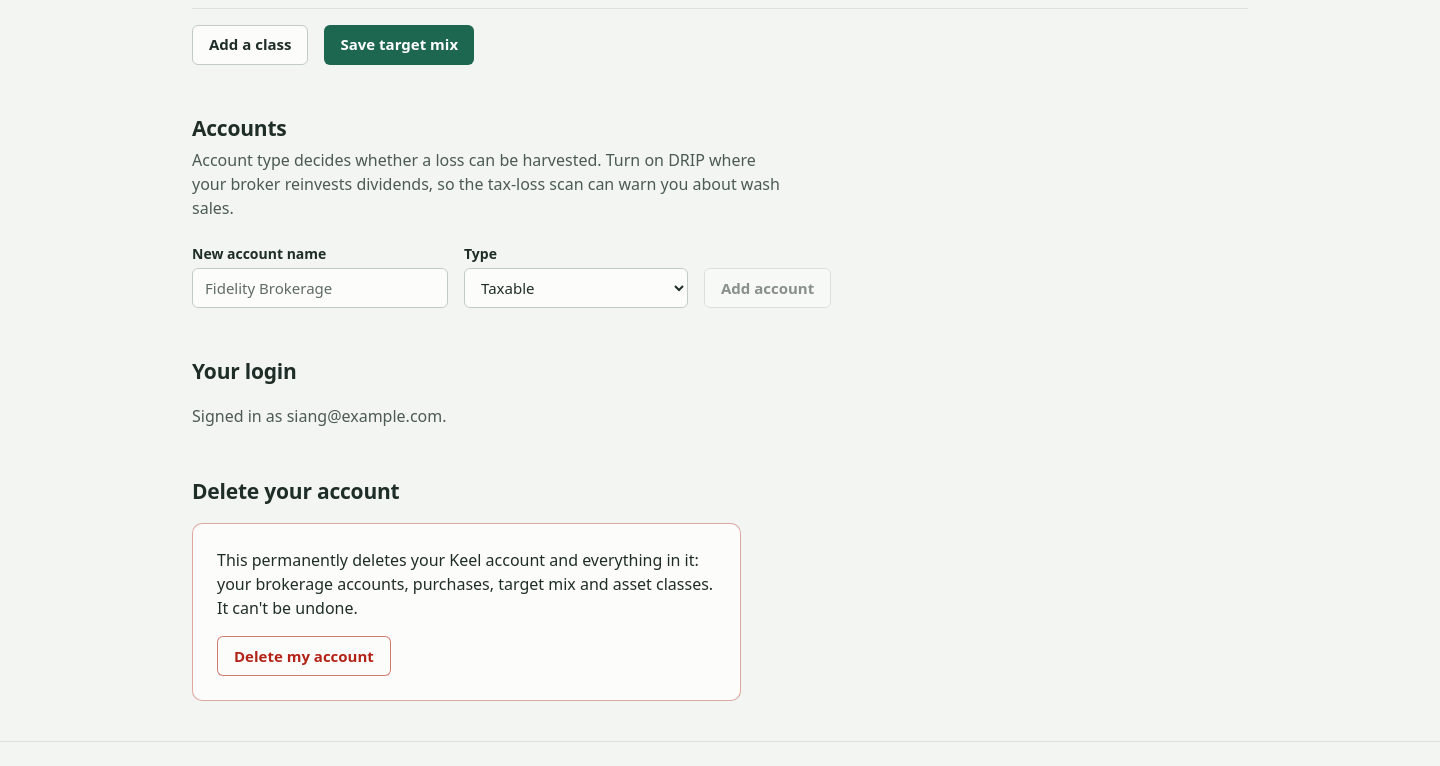
it: delete my account › asks for the password, keeps the account on a wrong one, and returns to the start page when done
(page scrolled)
Click the button "Delete my account" at (304, 656), box x1=217 y1=636 x2=391 y2=676
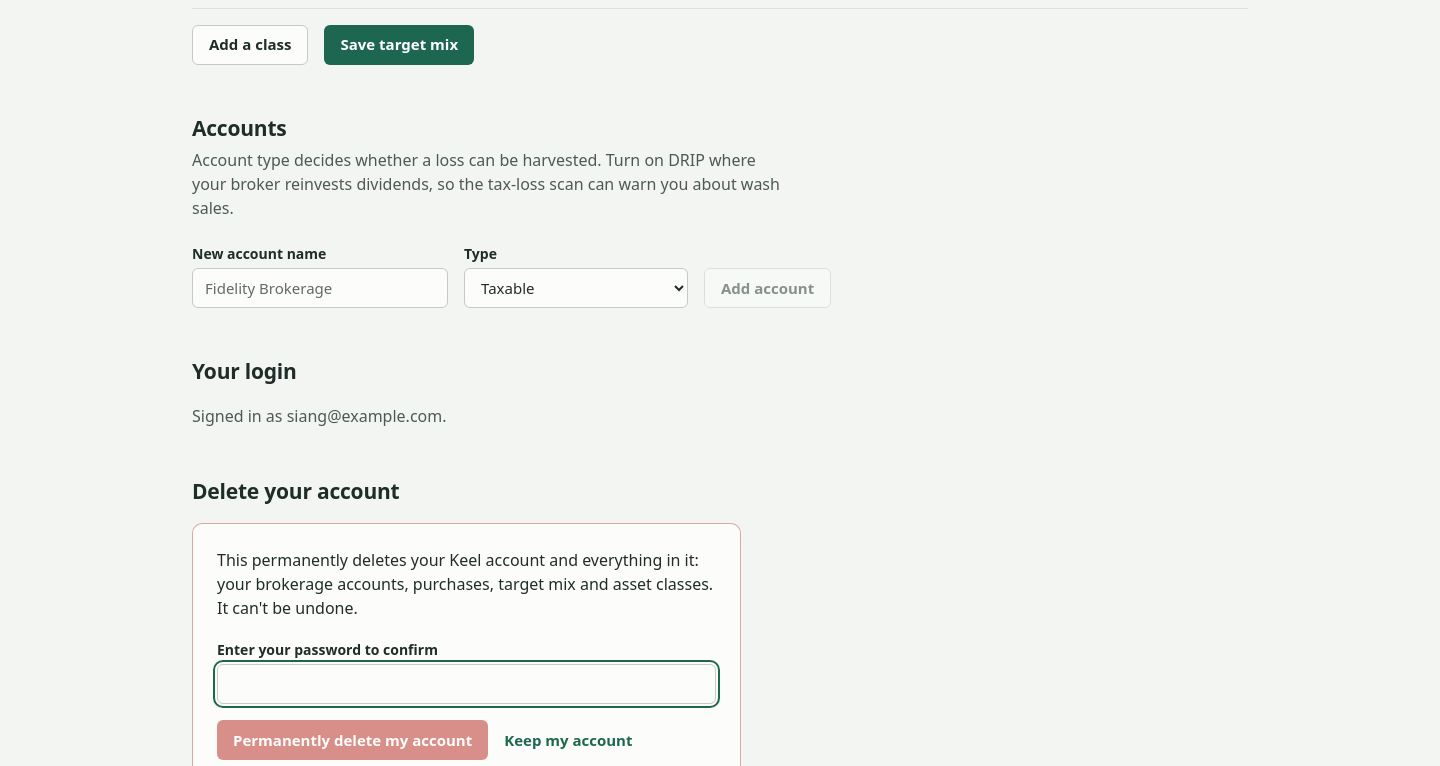
Result: the button "Permanently delete my account" is disabled at x1=217 y1=720 x2=488 y2=760
Type "wrong one" into the password field labelled "Enter your password to confirm" at (467, 684), box x1=217 y1=664 x2=716 y2=704
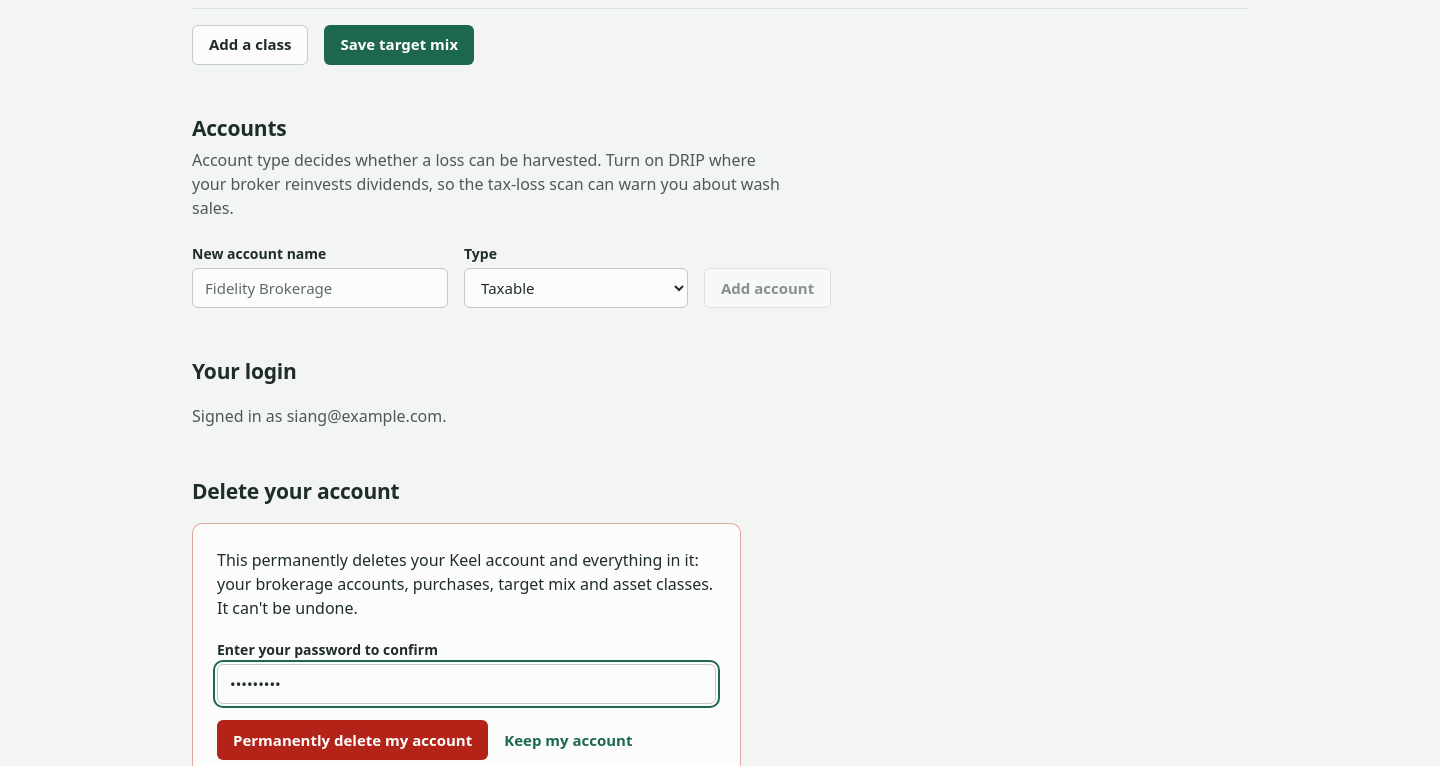
Click the button "Permanently delete my account" at (353, 740), box x1=217 y1=720 x2=488 y2=760
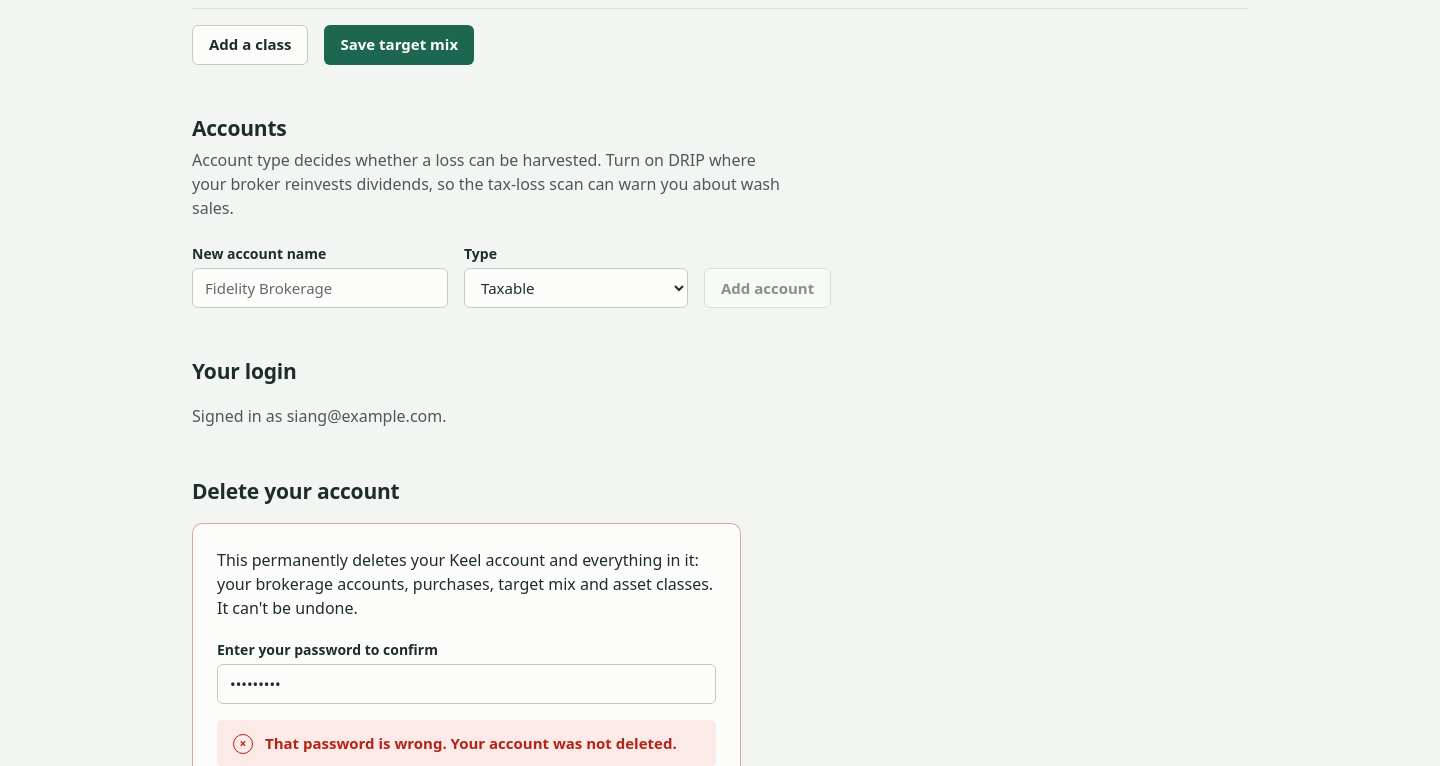
Result: the text "That password is wrong. Your account was not deleted." is shown at x1=265 y1=732 x2=677 y2=754
Type "correct horse battery" into the password field labelled "Enter your password to confirm" at (467, 684), box x1=217 y1=664 x2=716 y2=704
(page scrolled)
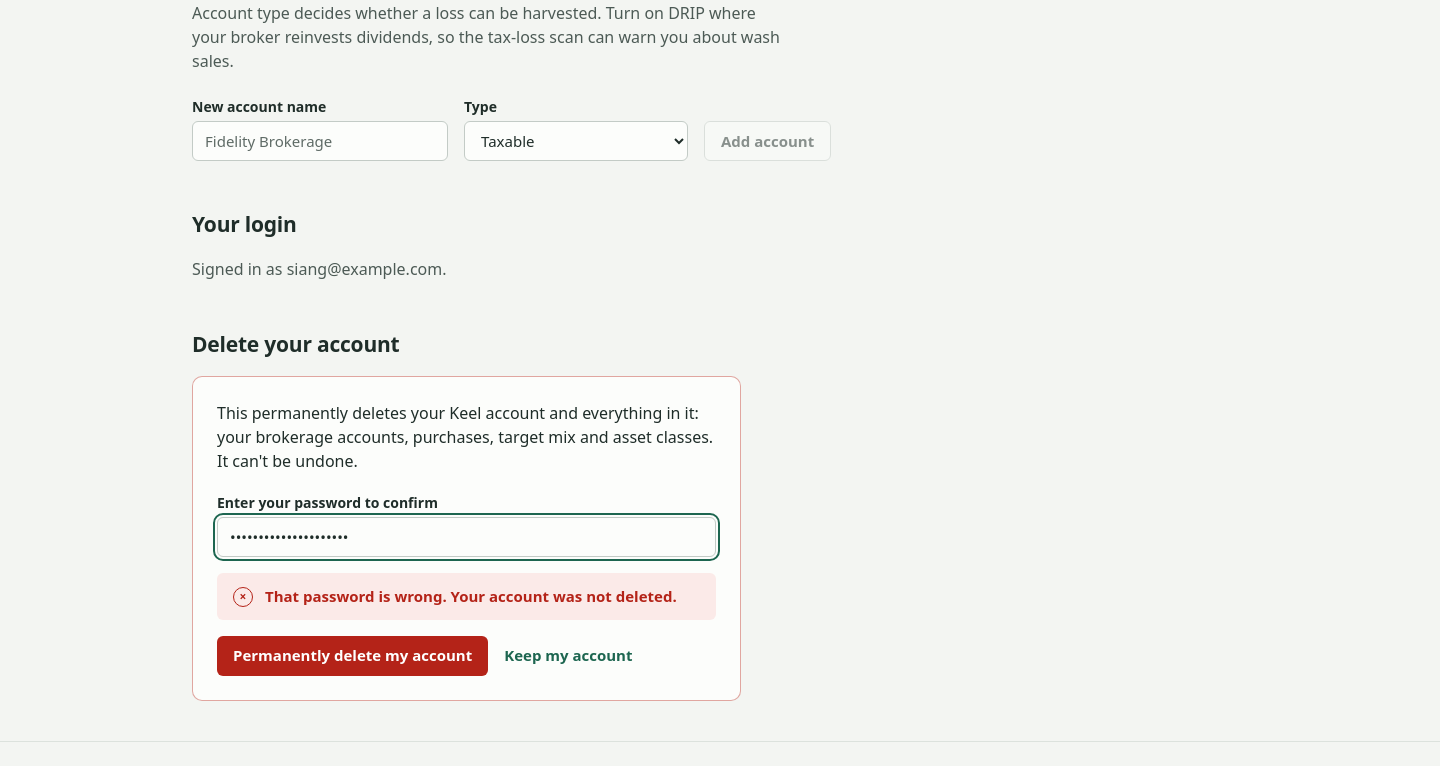
Click the button "Permanently delete my account" at (353, 656), box x1=217 y1=636 x2=488 y2=676
(page scrolled)
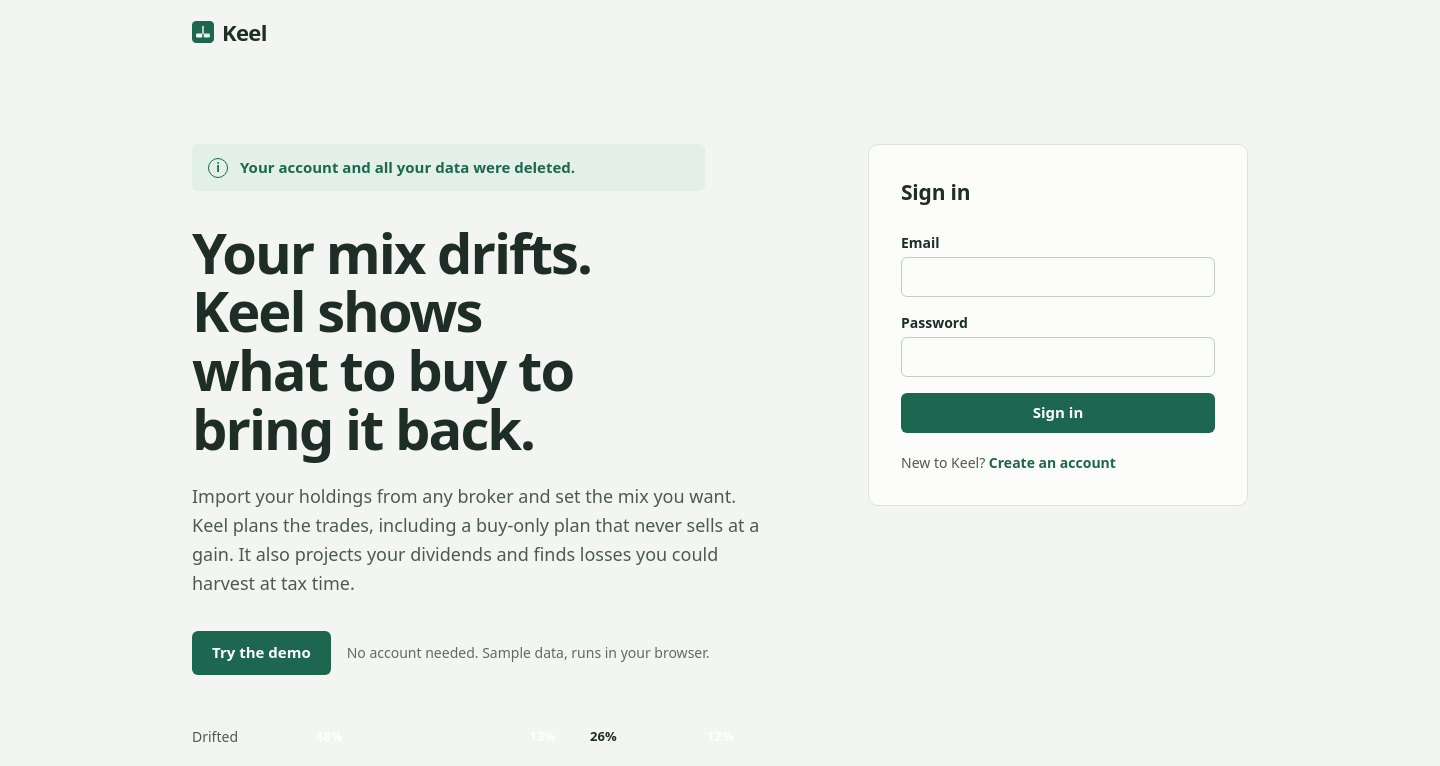
Result: the text "Your account and all your data were deleted." is shown at x1=240 y1=156 x2=575 y2=178
Result: the button "Try the demo" is shown at x1=192 y1=631 x2=331 y2=675
